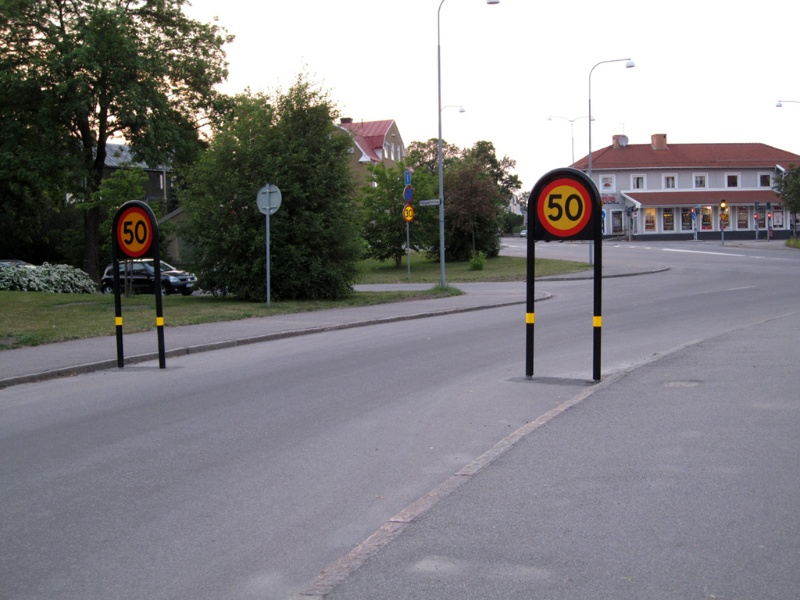speed_limit_30: (402, 202, 416, 221)
speed_limit_50: (532, 175, 595, 238), (113, 203, 156, 257)
